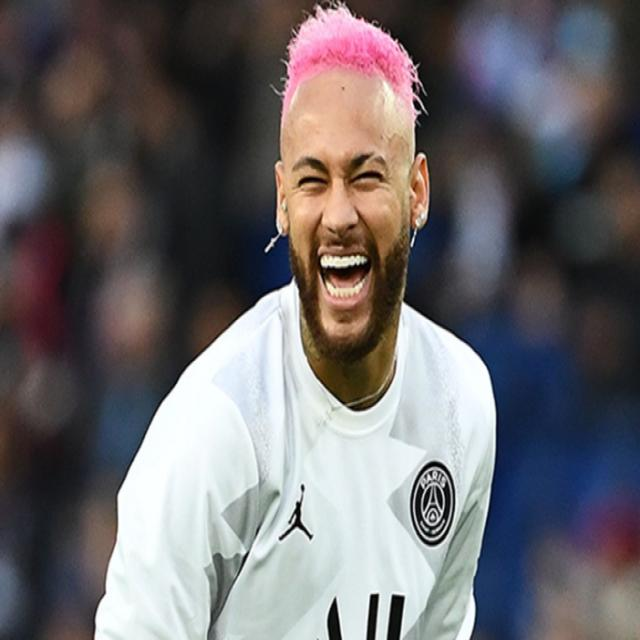neymar: (280, 29, 424, 344)
